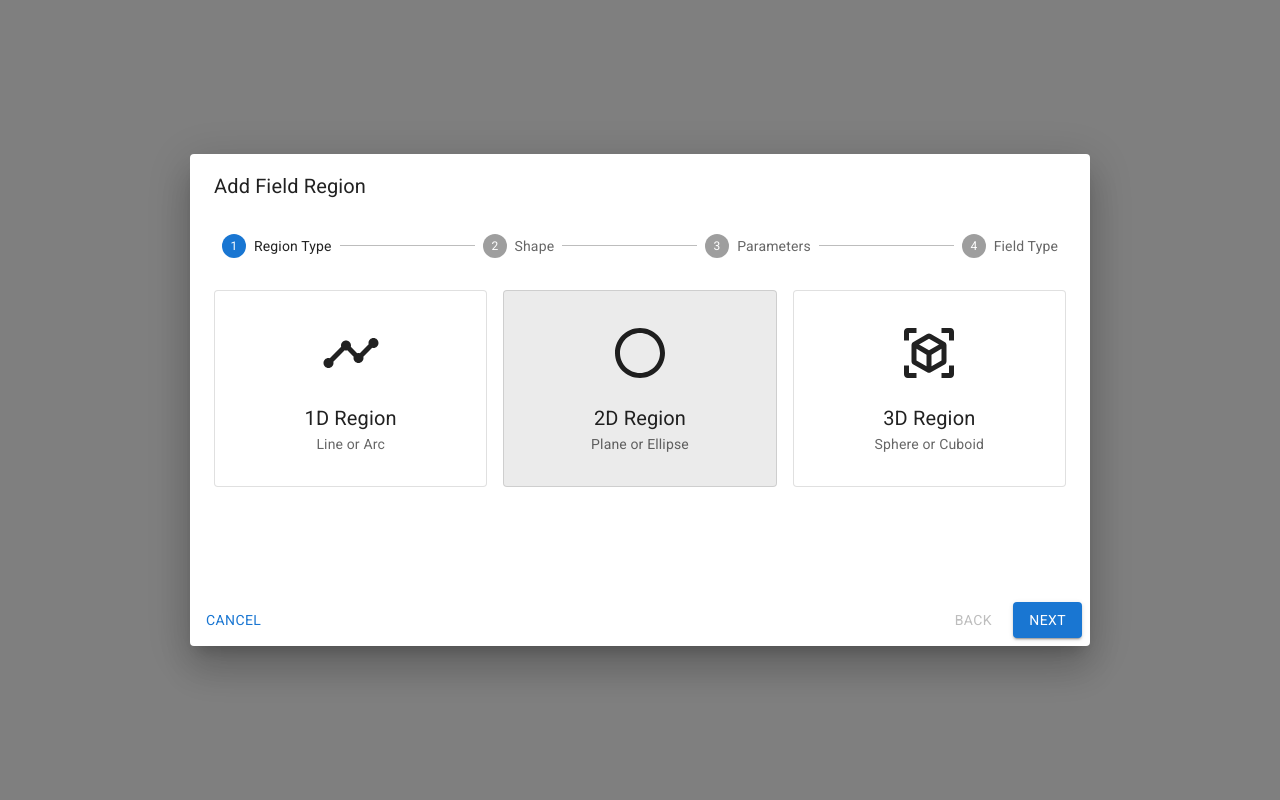
Test: AddFieldDialog - T4.B1.2 › Step Navigation › allows moving back to previous step
// Go to step 2
What coordinates should you click on to do the following:
click the button "Next"
I would click on:
 (1048, 620)
Its box is [1013,602,1082,638].
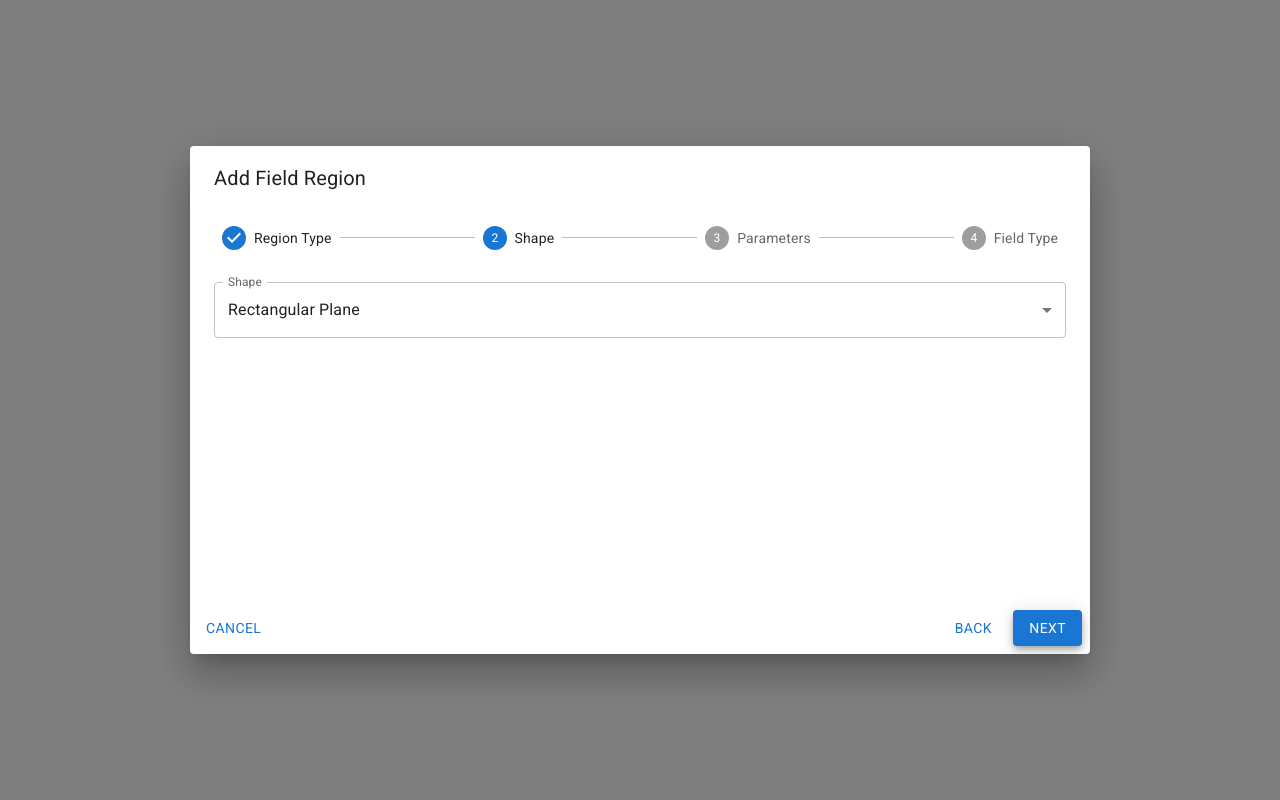
// Go back to step 1
What coordinates should you click on to do the following:
click the button "Back"
I would click on:
 (973, 628)
Its box is [941,610,1005,646].
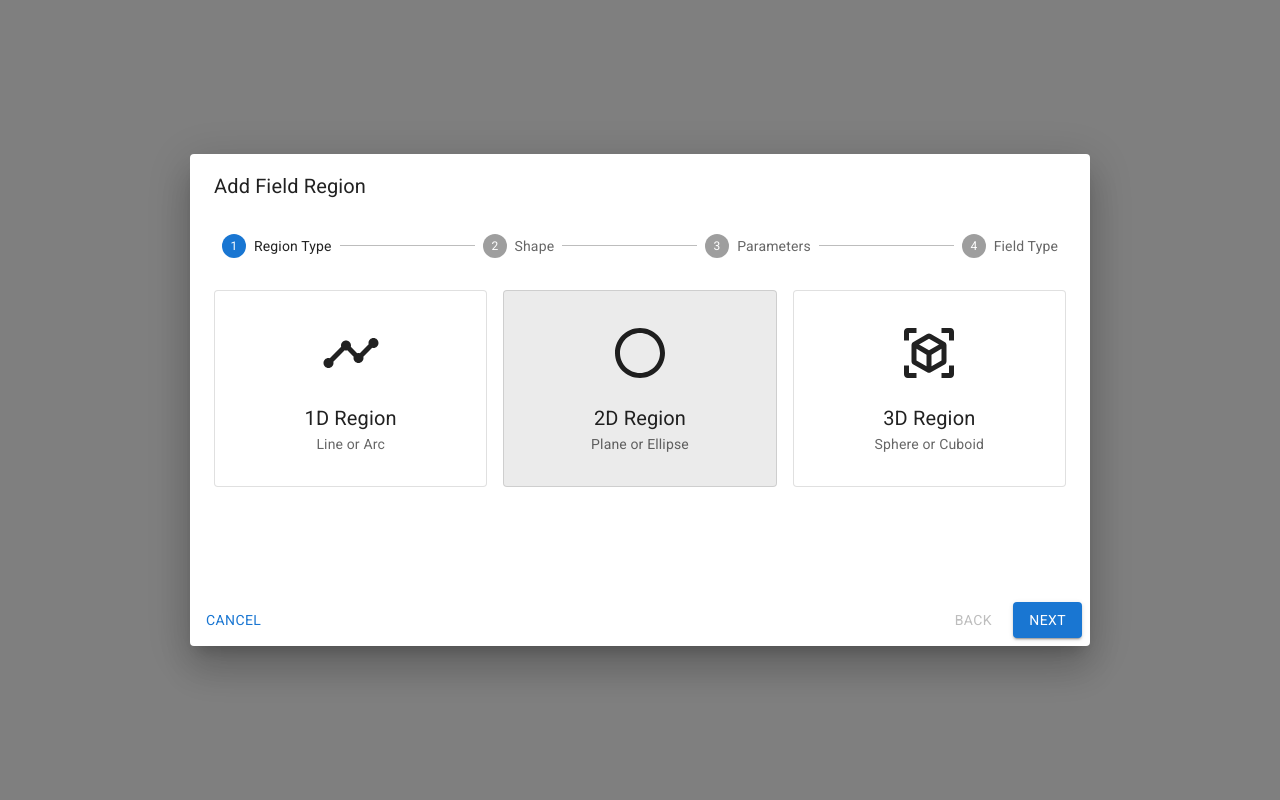
Check: the heading "2D Region" is shown, box [594,406,686,430]
